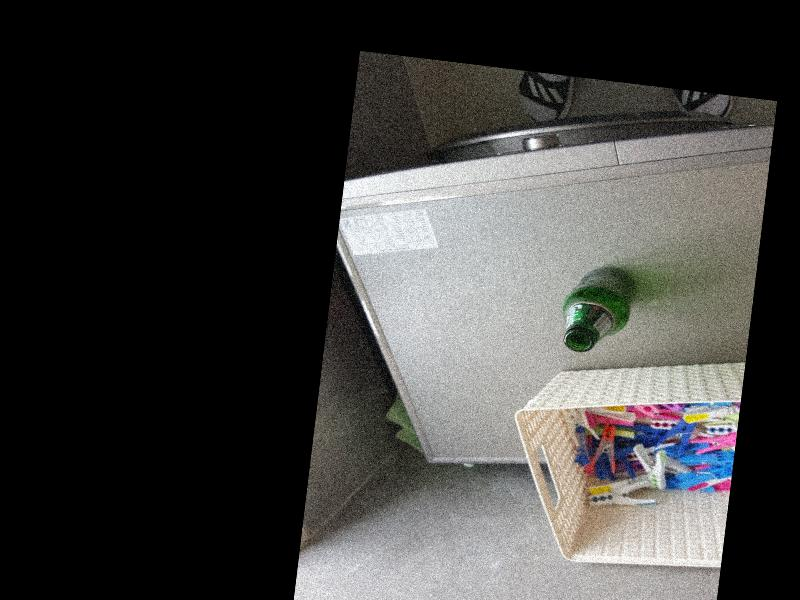Beer: (561, 261, 637, 356)
